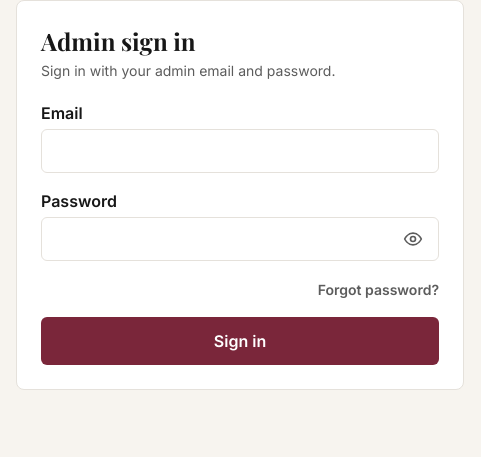
Test: LoginForm › still shows the generic error on a non-redirect failure
Type "owner@example.com" into the field labelled "Email" at (240, 151), box [41, 129, 439, 173]
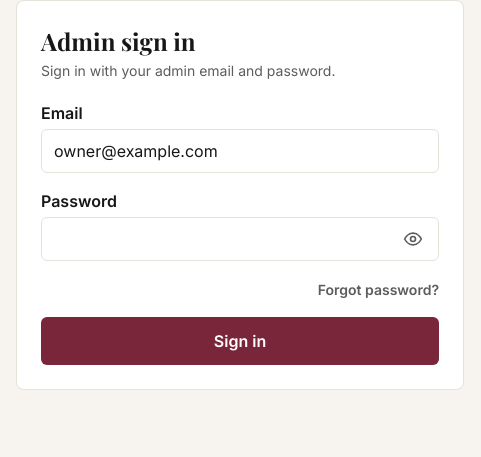
Type "correct-password" into the password field labelled "Password" at (240, 239), box [41, 217, 439, 261]
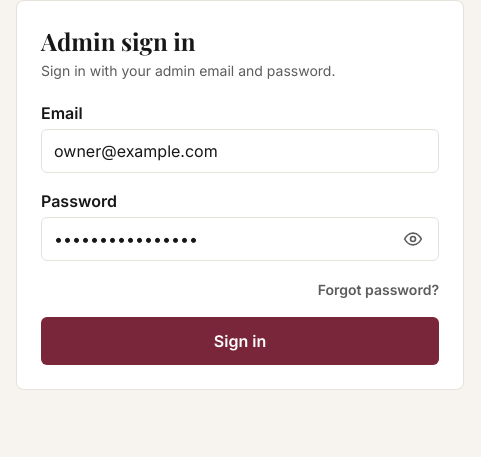
Click the button "Sign in" at (240, 341), box [41, 317, 439, 365]
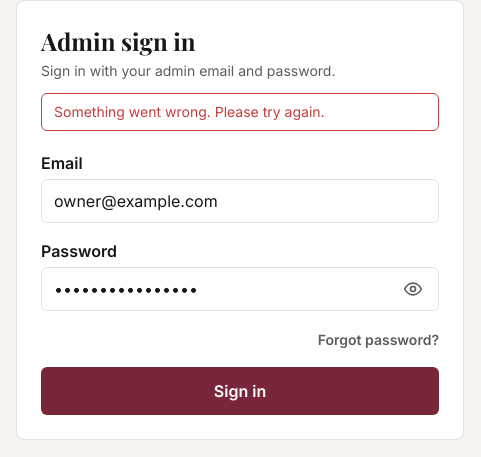
Expected: the text "Something went wrong. Please try again." is shown, [41, 93, 439, 131]
